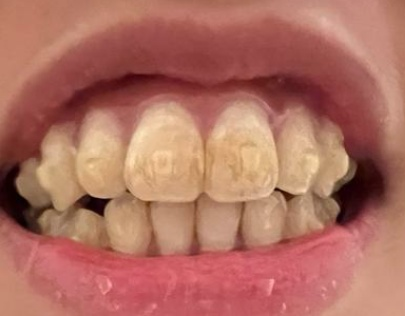teeth: (125, 104, 203, 203), (205, 103, 277, 200), (77, 108, 125, 195), (39, 121, 82, 209), (278, 105, 316, 194), (103, 197, 152, 255), (317, 115, 349, 198), (196, 197, 242, 251), (242, 193, 285, 247), (151, 201, 193, 253), (19, 157, 51, 206), (286, 194, 324, 235), (65, 209, 108, 245), (39, 205, 74, 235), (316, 194, 339, 222)
